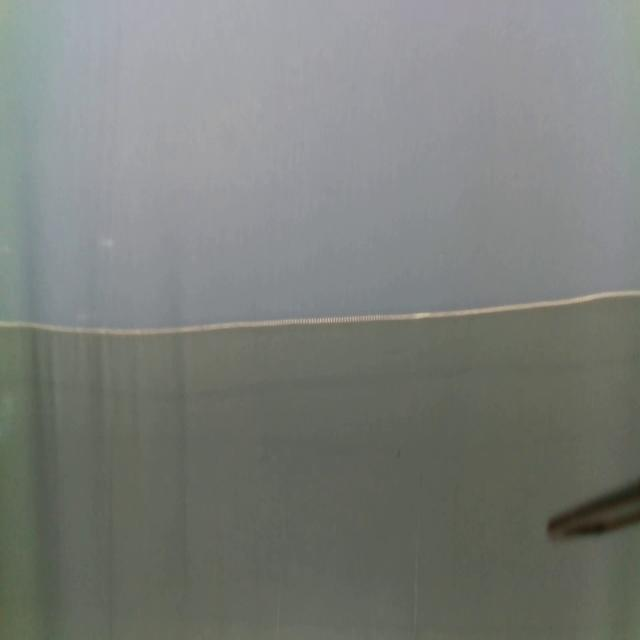color bleeding: (0, 347, 640, 410)
crease: (104, 455, 116, 640), (411, 518, 424, 640)
